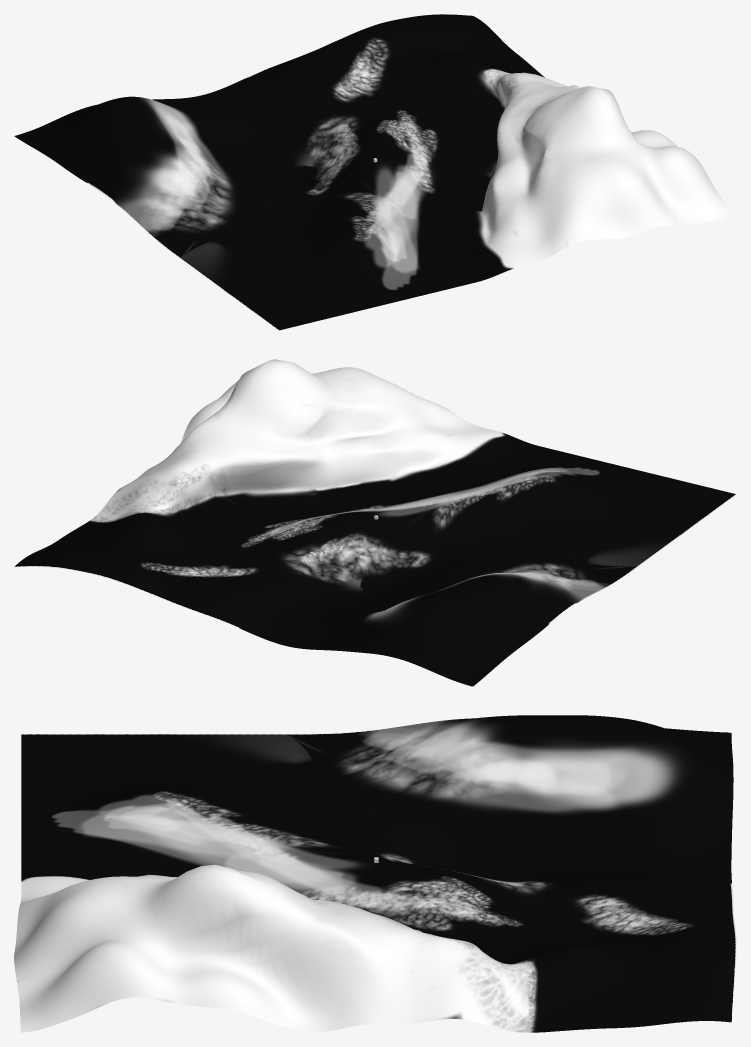
Rendered from terrain_test.gltf.
3 renders of one model, top to bottom at view 1: azimuth 30°, elevation 25°; view 2: azimuth 150°, elevation 25°; view 3: azimuth 270°, elevation 25°, orthographic. The views are drawn at different scales.
Visible parts, largest first — view 1: Plane; view 2: Plane; view 3: Plane.
Part boxes in pixels (box(x1,y1,x2,y2)): Plane: box(14, 14, 736, 330); Plane: box(14, 359, 736, 686); Plane: box(14, 715, 736, 1032).
Size of the model in its own units: 347 by 75.25 by 345.
Materials: 1 (1 with a texture image).
